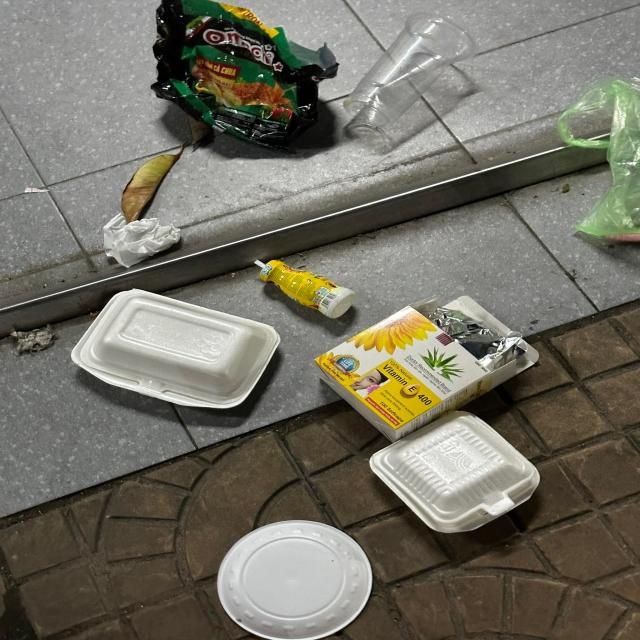bag: (555, 76, 640, 242)
bottle: (255, 258, 358, 320)
cardboard box: (312, 295, 538, 442)
foam box: (70, 286, 282, 409), (370, 411, 541, 533)
napkin: (102, 213, 184, 268)
plastic glass: (343, 13, 478, 126)
plastic holder: (216, 519, 373, 640)
snack package: (150, 0, 341, 147)
